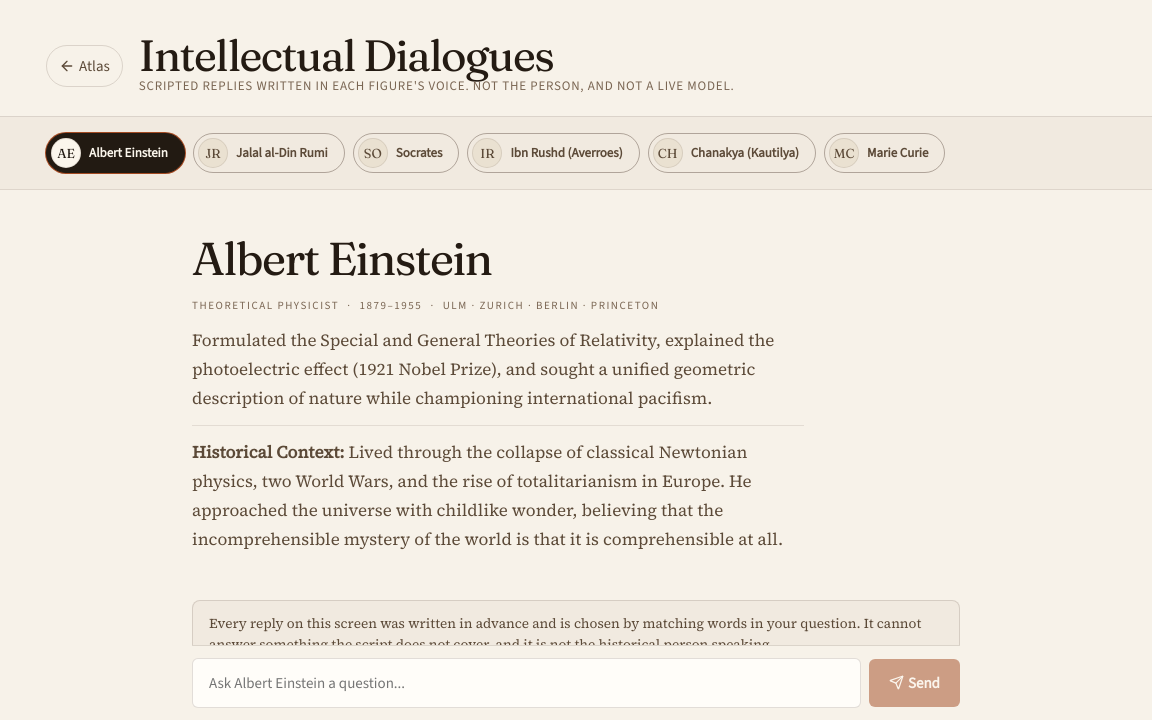
Test case: ConversationBots screen › switches figure and loads their bio
What coordinates should you click on to do the following:
click the button with aria-label "Converse with Socrates"
I would click on:
 (406, 154)
Its box is [353,134,459,174].
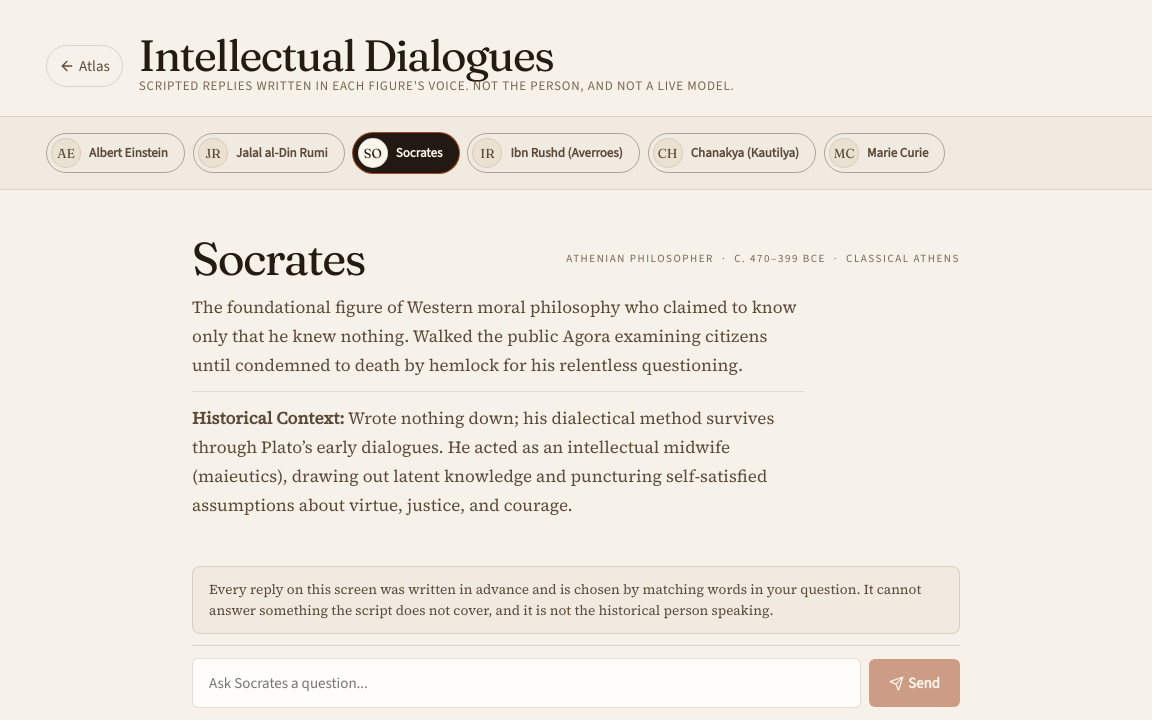
Result: the text "The foundational figure of Western moral philosophy who claimed to know only that he knew nothing. Walked the public Ago" is shown at [192,295,797,377]
